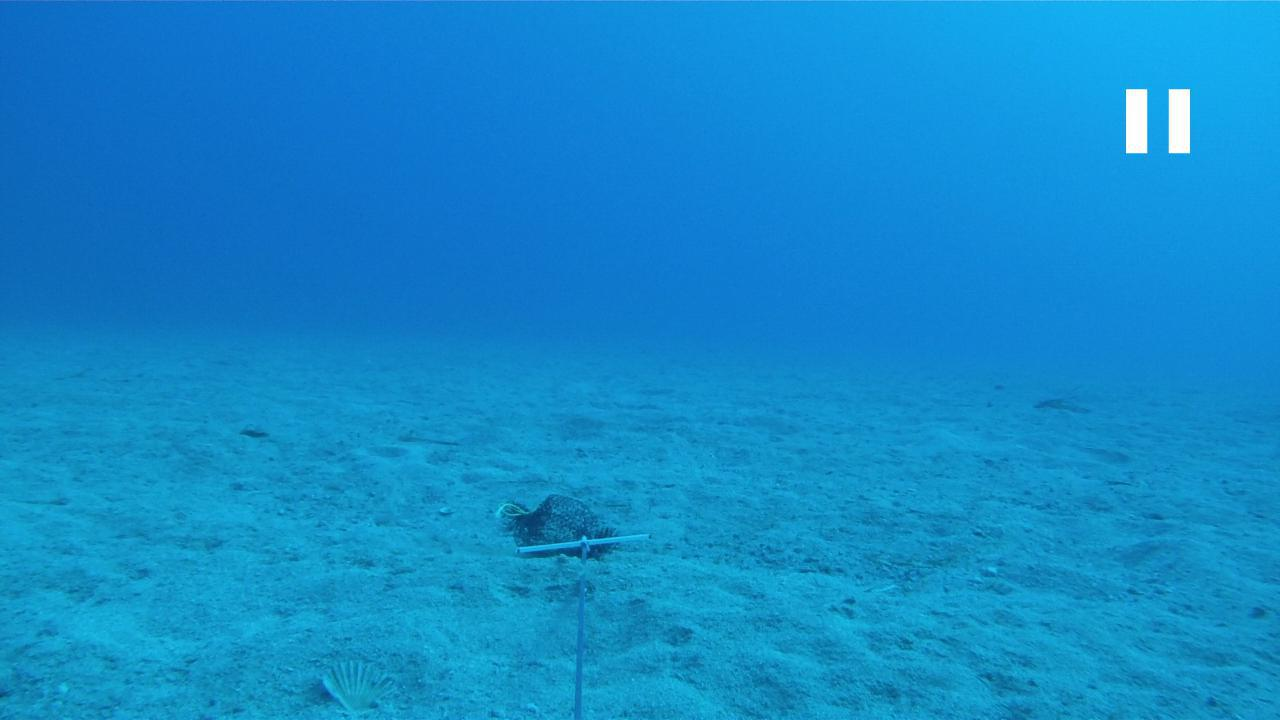bothus: (237, 419, 272, 436)
